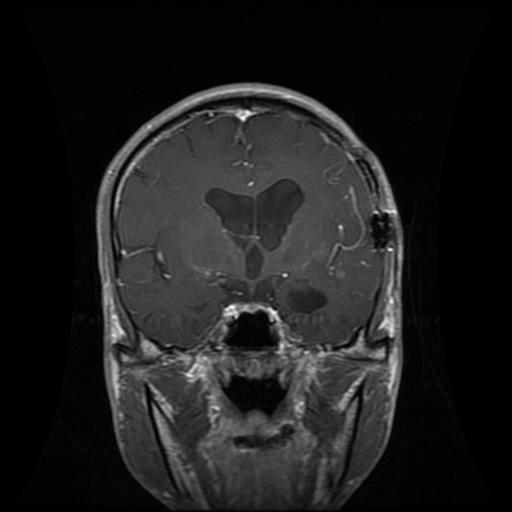Gliomia_tumour: (288, 280, 325, 311)
